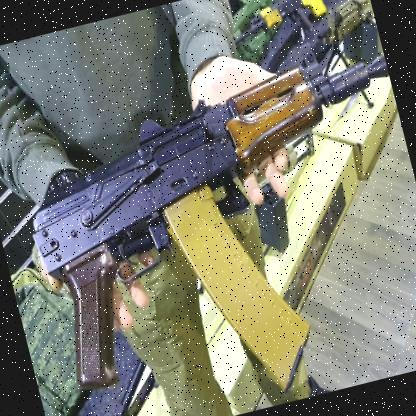rifle: (0, 33, 416, 416)
